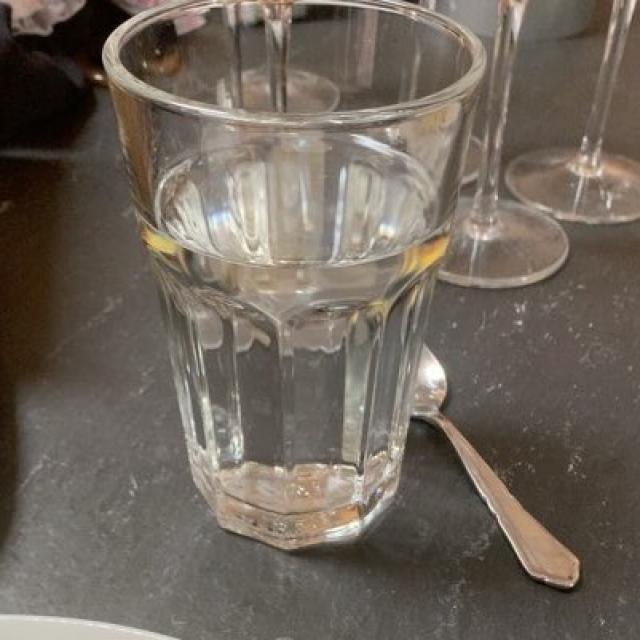water: (148, 122, 444, 514)
